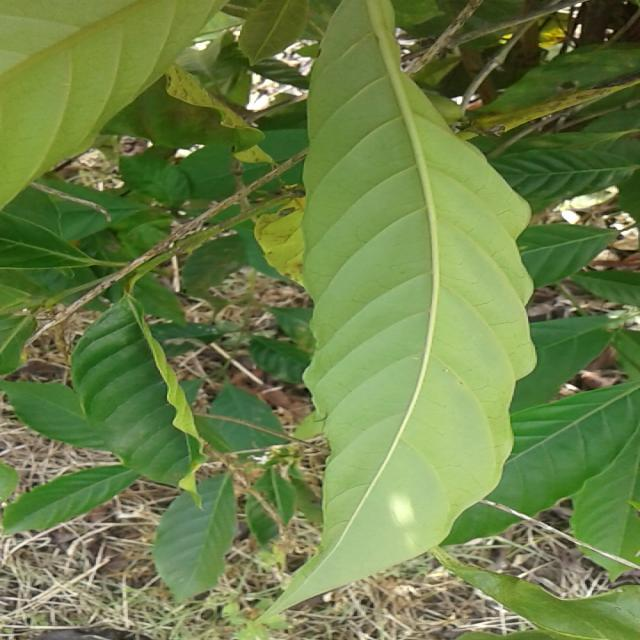Sanas: (272, 0, 538, 613)
